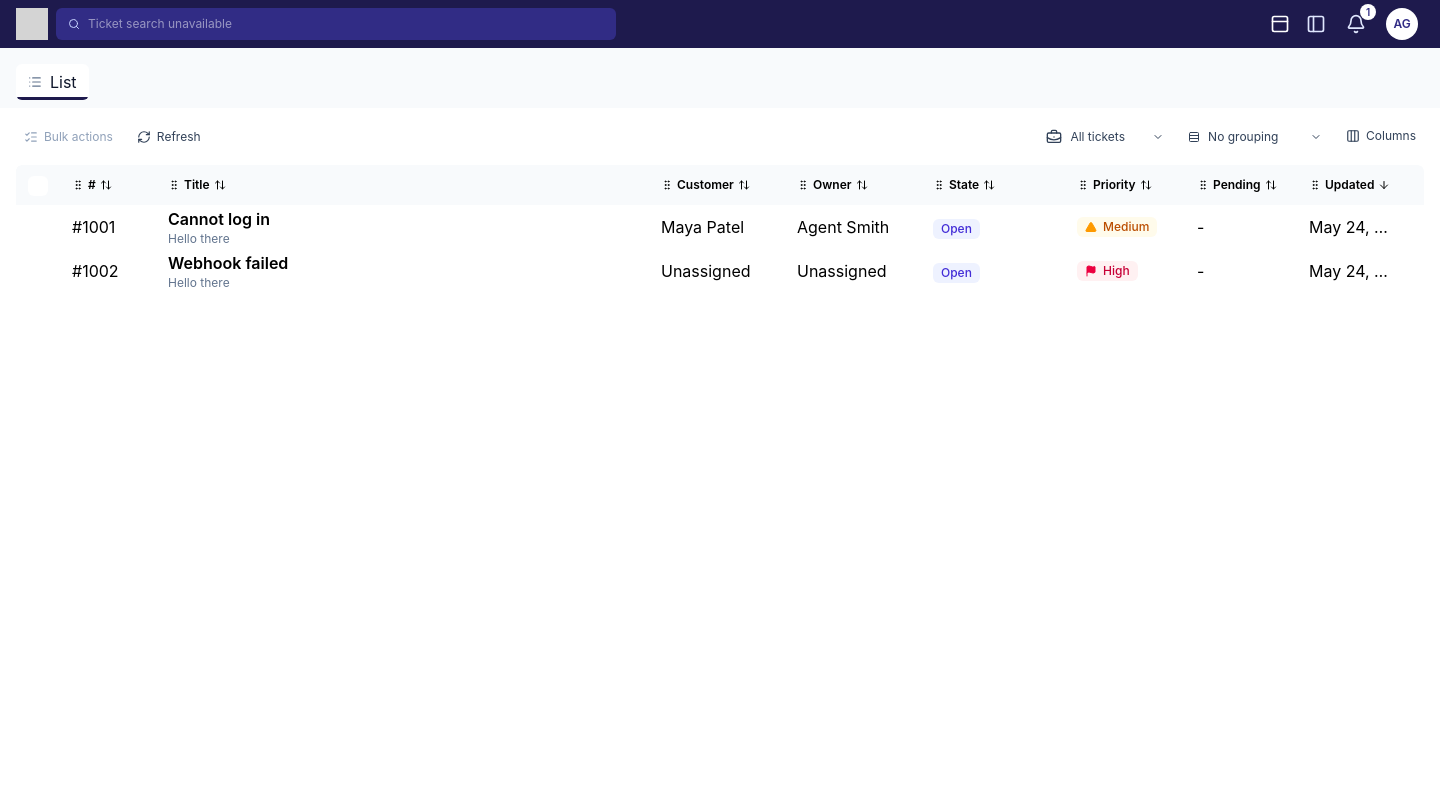
Test: TicketWorkspace notifications › clicking an inactive notification marks it read, opens the ticket, and leaves tabs without unread indicators
Click the button named "Notifications, 1 unread" at (1356, 24), box x1=1340 y1=8 x2=1372 y2=40
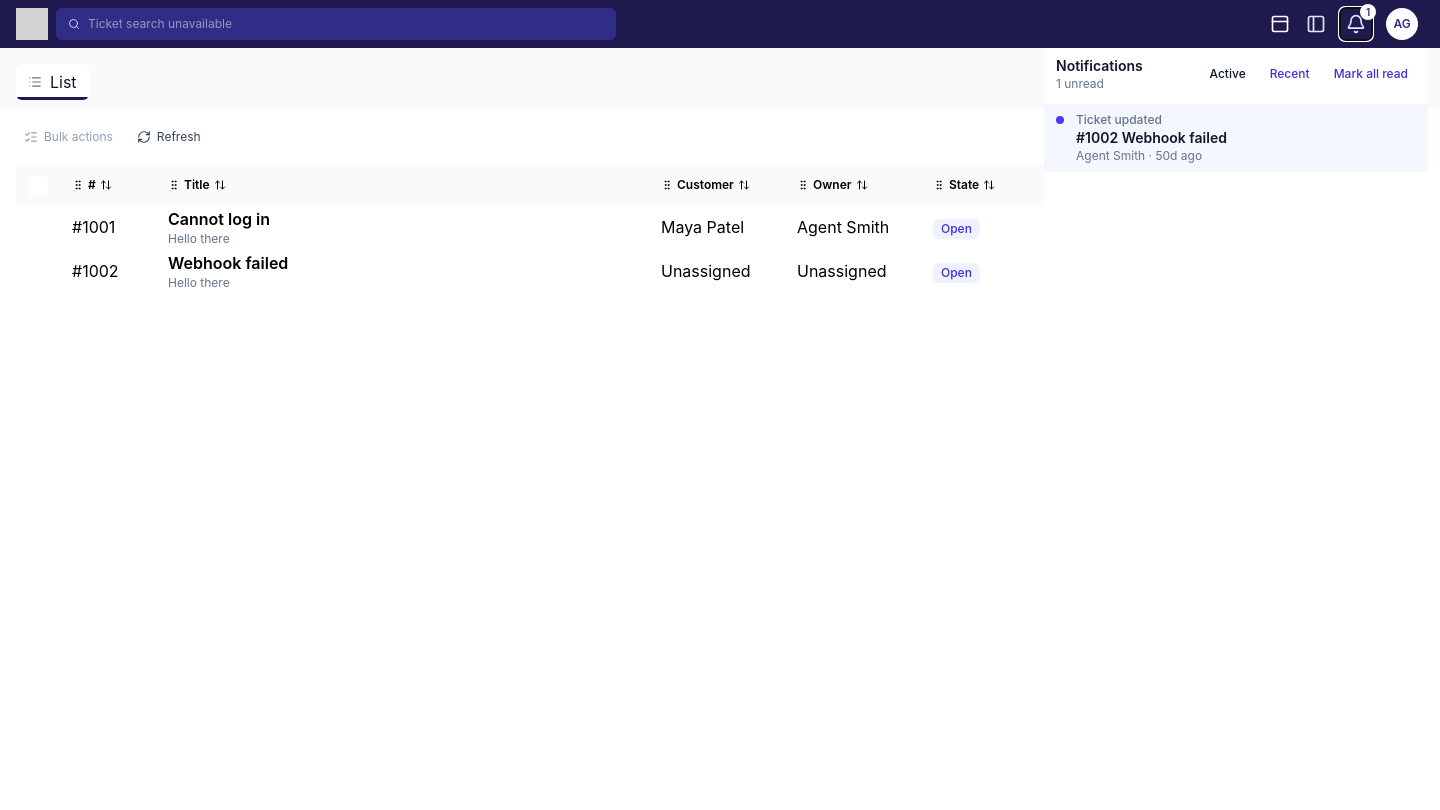
Click the button "Ticket updated #1002 Webhook failed Agent Smith · 50d ago" at (1119, 120), box x1=1044 y1=104 x2=1428 y2=172
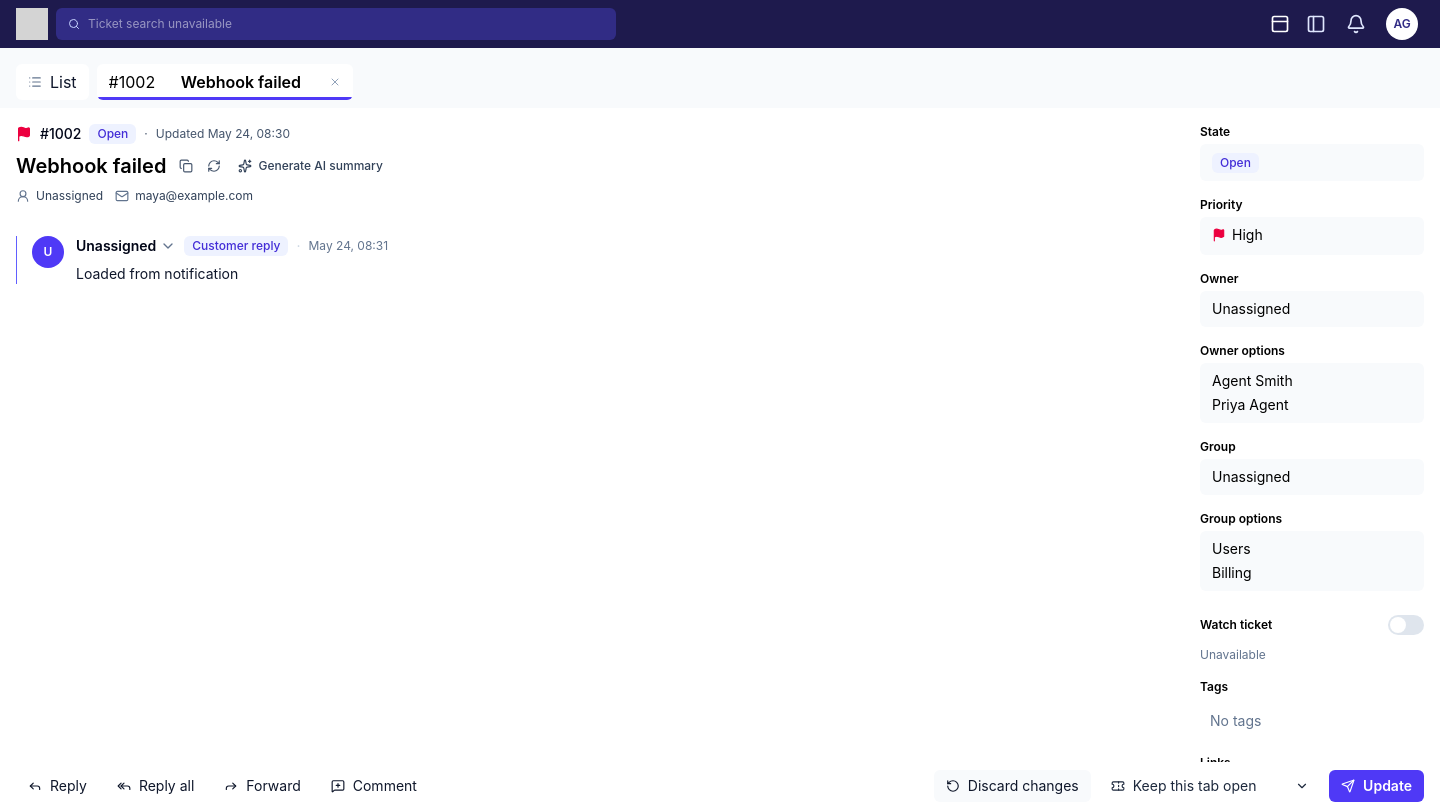
expect the text "unread" is gone: met
